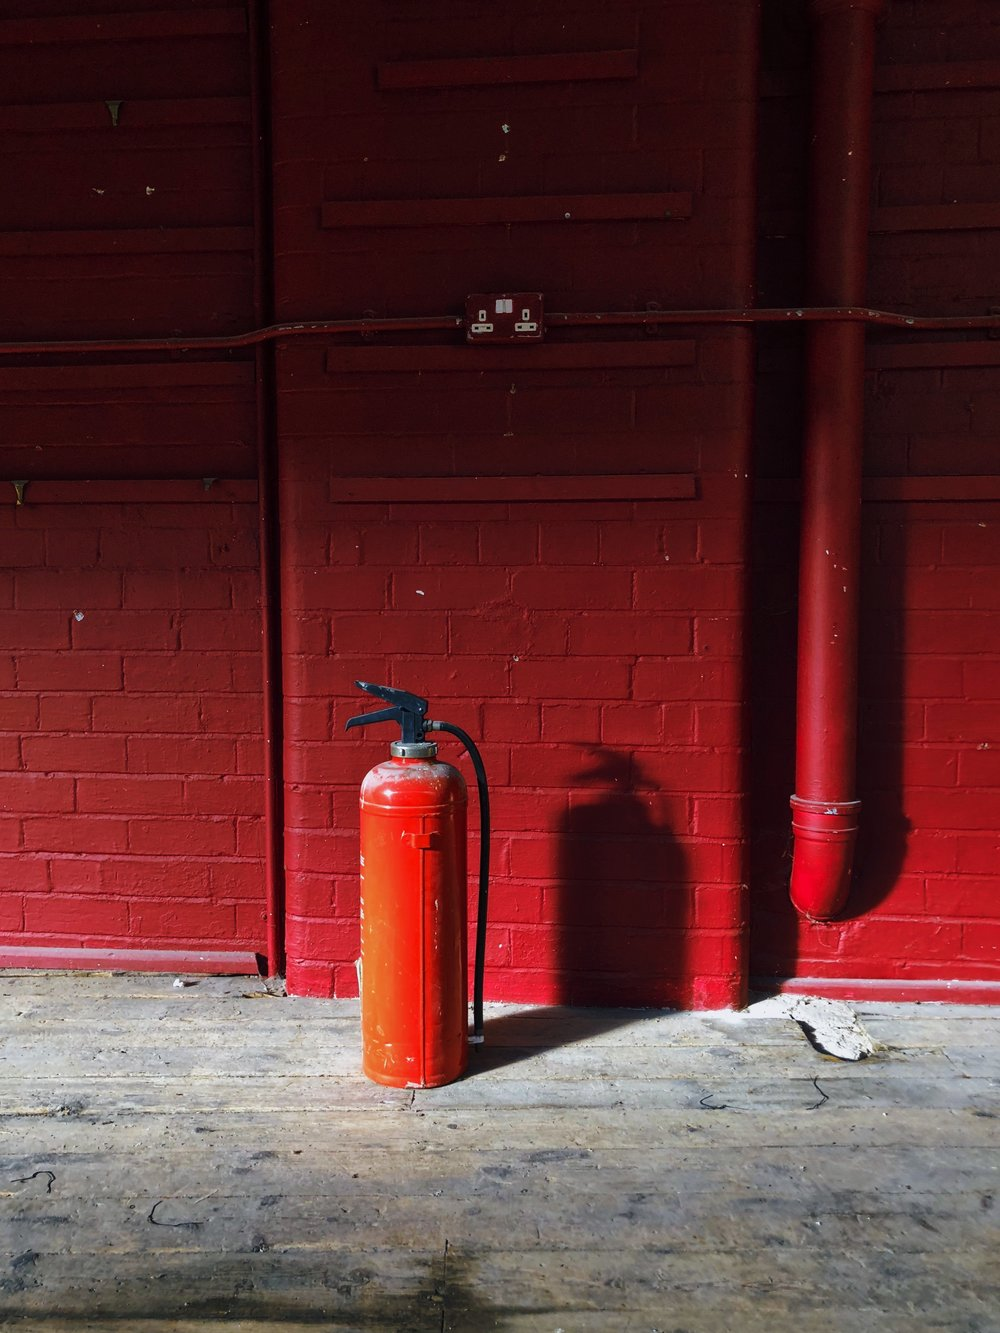fire: (349, 681, 489, 1088)
